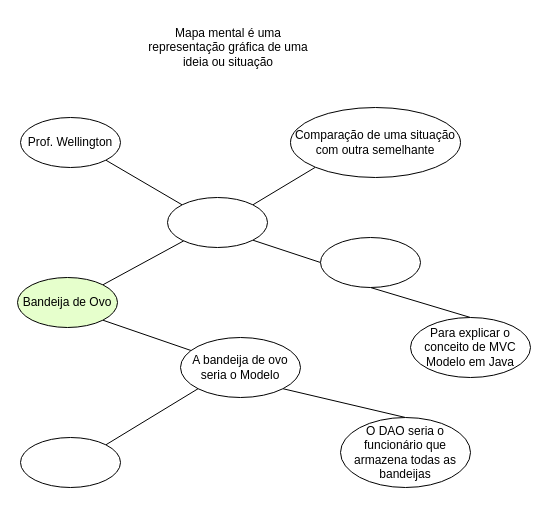
The diagram is 548 pixels wide and 505 high, and some of its shapes have lost their labels. The shapes that lost their labels are listed below. From the top down, each one's box as (x1, y1, x2, y2) in pixels, then its label:
(166, 196, 268, 248): Analogia
(320, 236, 420, 288): Por que?
(20, 436, 120, 488): Os ovos seriam os atributos
